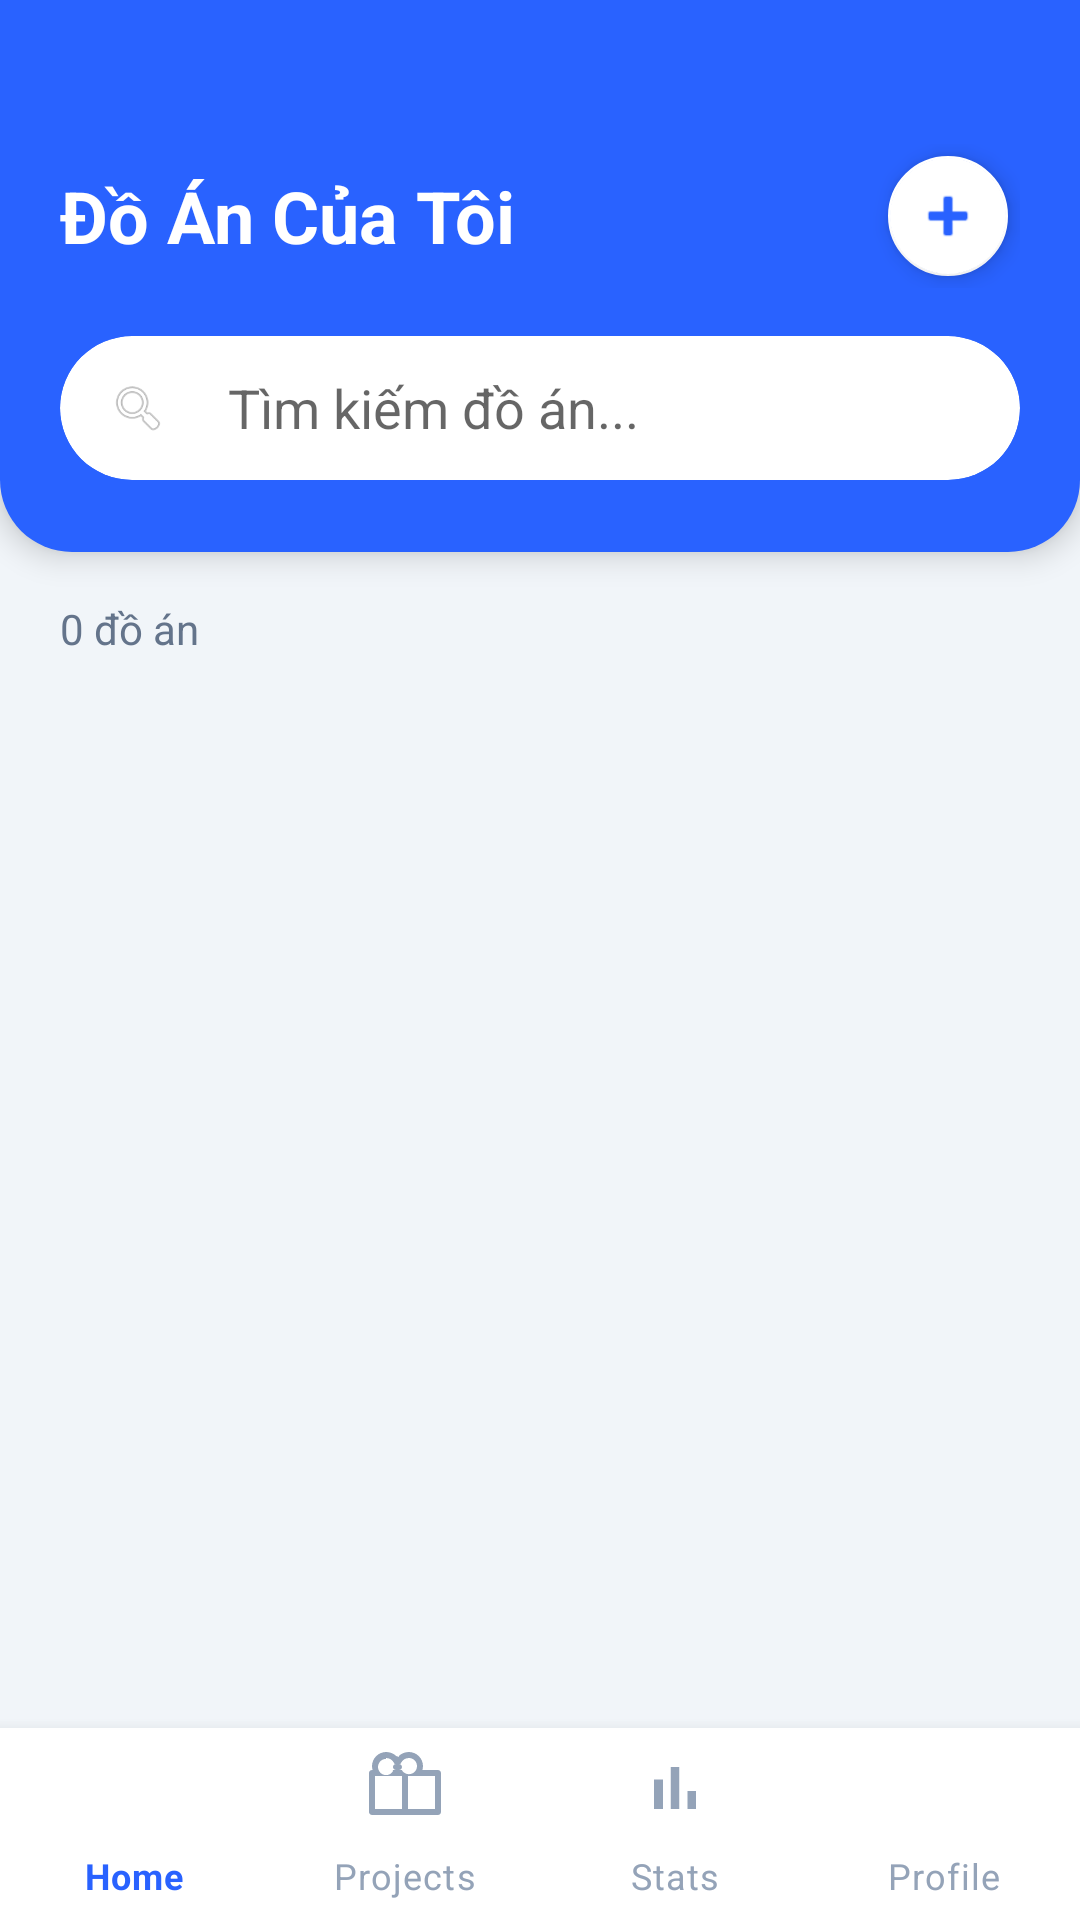

Point at icon controls on the screen. Image size 1080x1920, points as point (x, y).
search: point (138, 408)
Thêm đồ án: point (949, 216)
